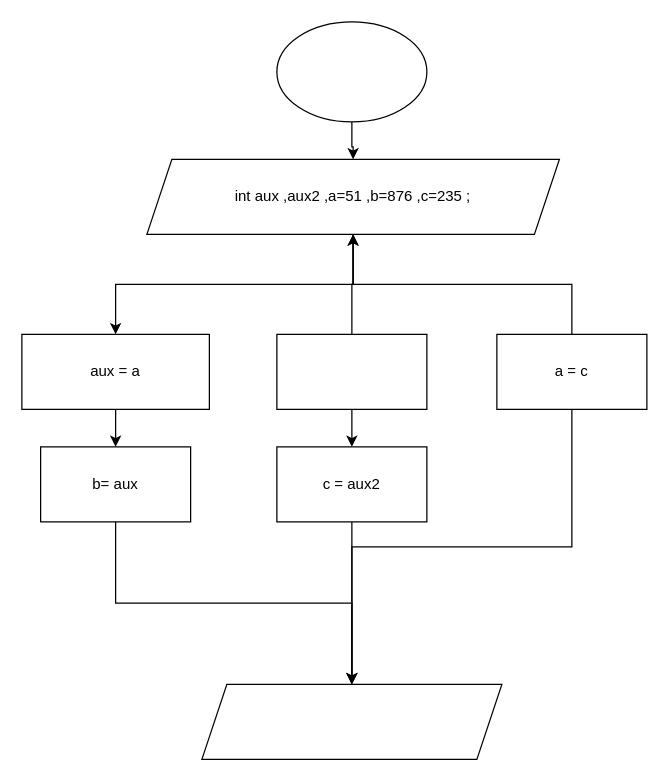
Image size: 669x781. Some labels were removed from this diagram. Each missing label, with the box of its shape:
aux2 = b: (276, 333, 427, 409)
Inicio: (276, 21, 427, 122)
